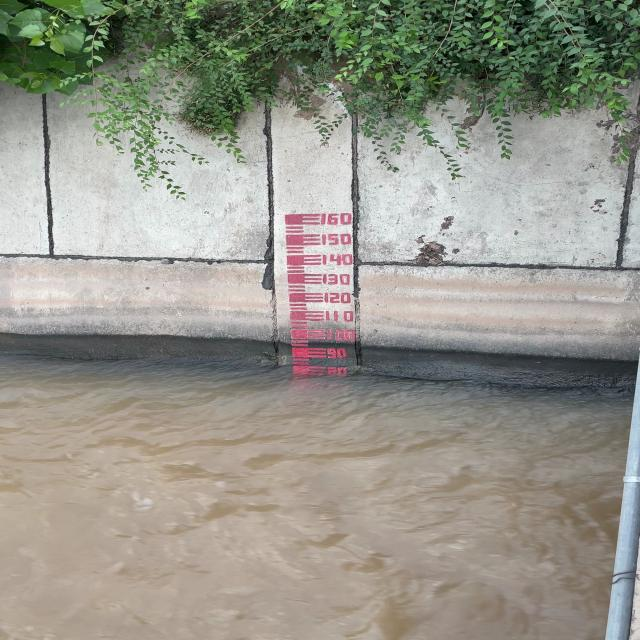ruler: (277, 207, 364, 367)
value: (319, 232, 357, 248), (318, 211, 357, 226), (319, 252, 357, 266), (324, 328, 360, 342), (320, 272, 354, 286), (322, 310, 357, 323), (321, 291, 353, 305), (324, 347, 350, 360)
